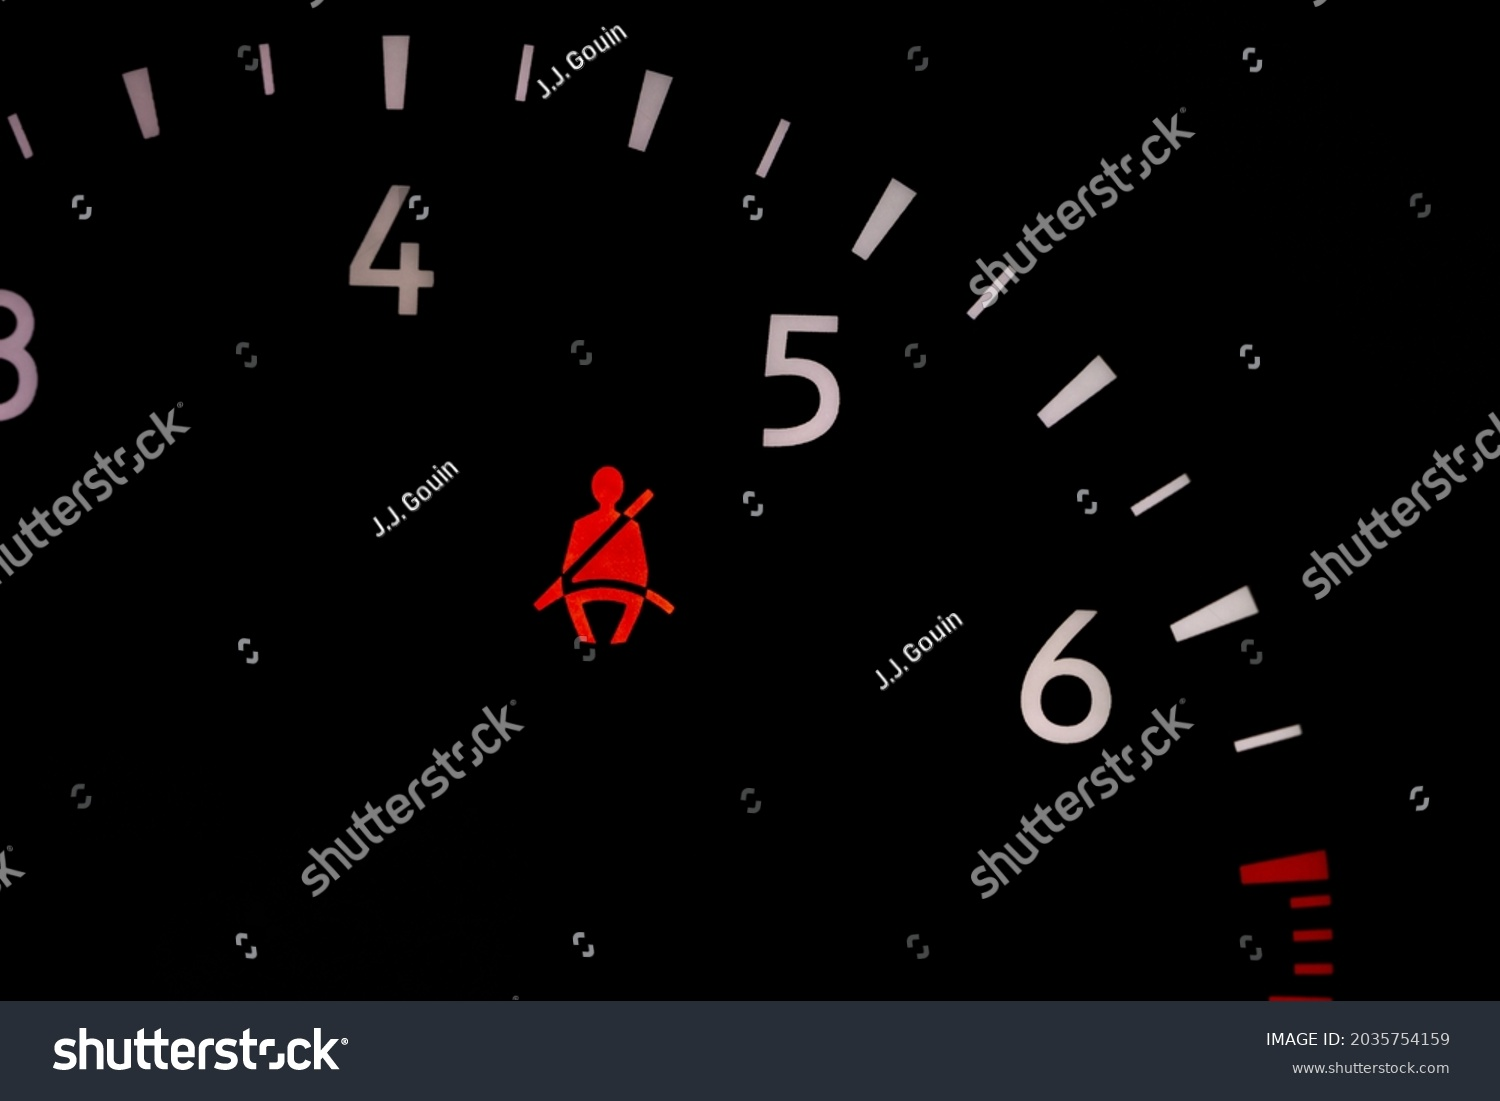Seatbelt_warning: (522, 461, 682, 650)
